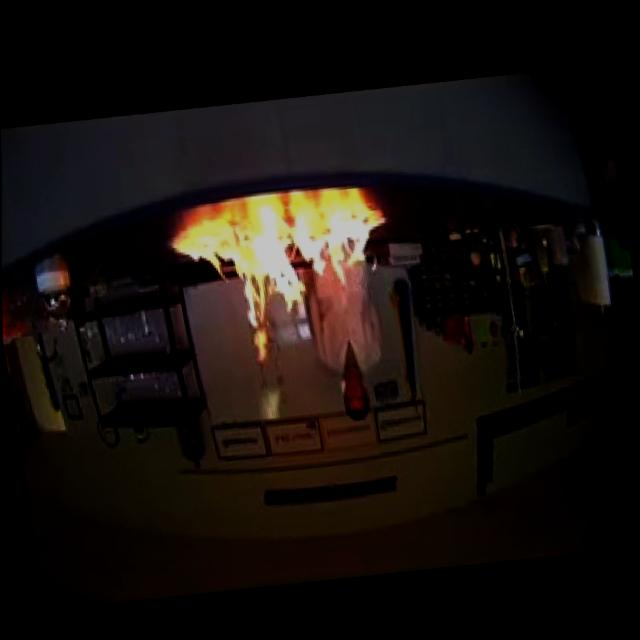helmet: (162, 197, 410, 383)
